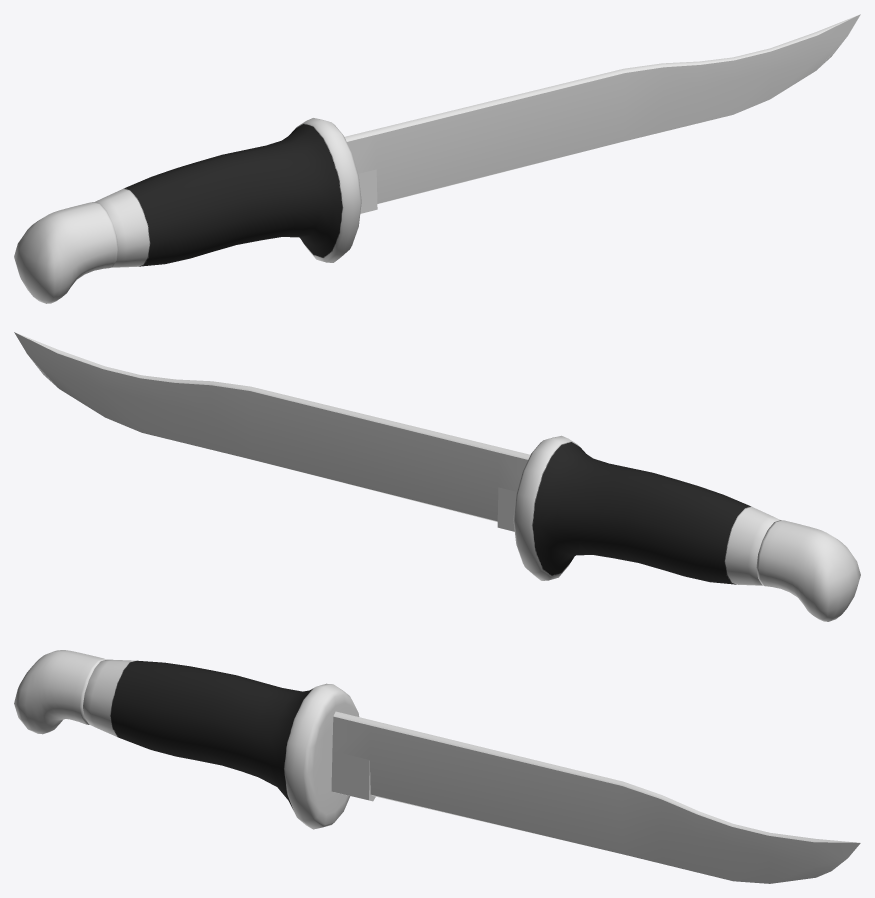
The model's file is Model_Knife_Final.fbx.
The picture shows the model from 3 angles, top to bottom: view 1: azimuth 30°, elevation 25°; view 2: azimuth 150°, elevation 25°; view 3: azimuth 330°, elevation 25°; orthographic projection.
Visible parts, largest first — view 1: Blade, Handle, Handle_End; view 2: Blade, Handle, Handle_End; view 3: Blade, Handle, Handle_End.
Boxes of the visible parts, x1,y1,x2,y2 form: Blade: [344, 14, 860, 213]; Handle: [94, 118, 361, 267]; Handle_End: [14, 202, 118, 303]; Blade: [14, 332, 530, 531]; Handle: [513, 435, 780, 585]; Handle_End: [756, 520, 860, 621]; Blade: [331, 711, 860, 883]; Handle: [83, 659, 359, 829]; Handle_End: [14, 650, 106, 734].
Size of the model in its own units: 30.06 by 4.8 by 3.74.
Materials: 1 (1 with a texture image).
